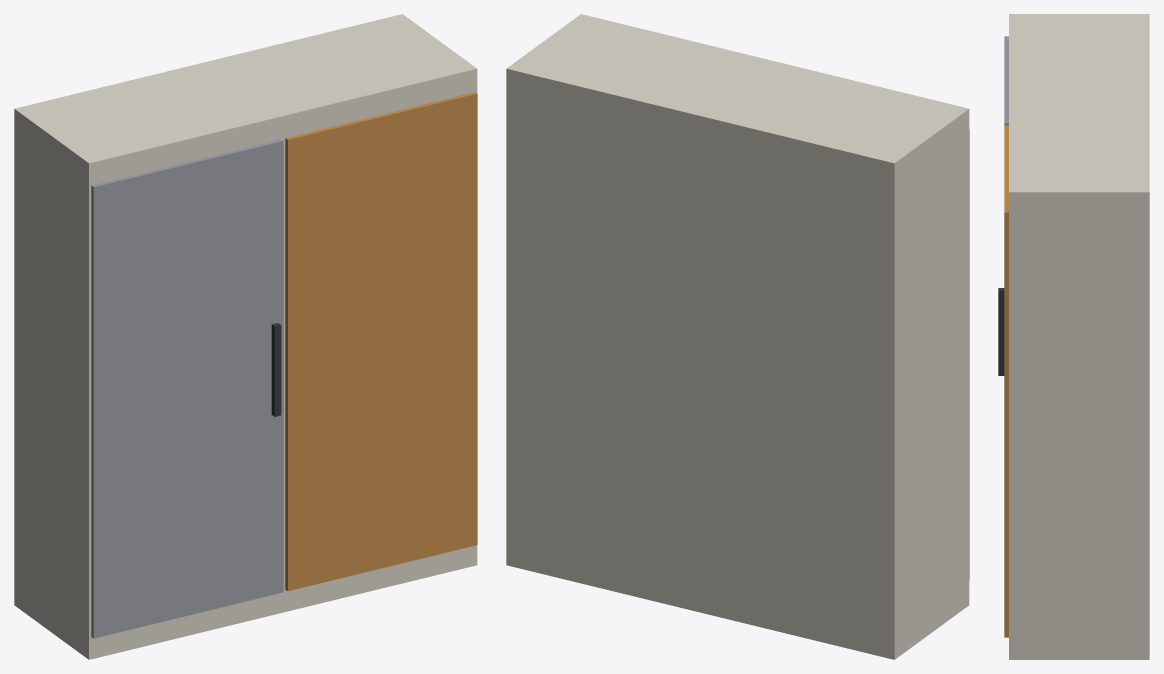
Rendered from wardrobe_sliding.glb.
3 renders of one model, left to right at view 1: azimuth 30°, elevation 25°; view 2: azimuth 150°, elevation 25°; view 3: azimuth 270°, elevation 25°, orthographic. The views are drawn at different scales.
Visible parts, largest first — view 1: wardrobe_sliding; view 2: wardrobe_sliding; view 3: wardrobe_sliding.
Part boxes in pixels (x1,y1,x2,y2): wardrobe_sliding: [14, 14, 477, 659]; wardrobe_sliding: [506, 14, 969, 659]; wardrobe_sliding: [998, 14, 1149, 659].
Size of the model in its own units: 1.8 by 2.2 by 0.645.
